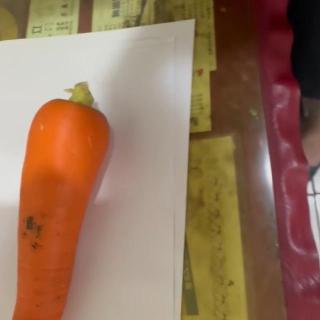carrot: (6, 81, 111, 320)
